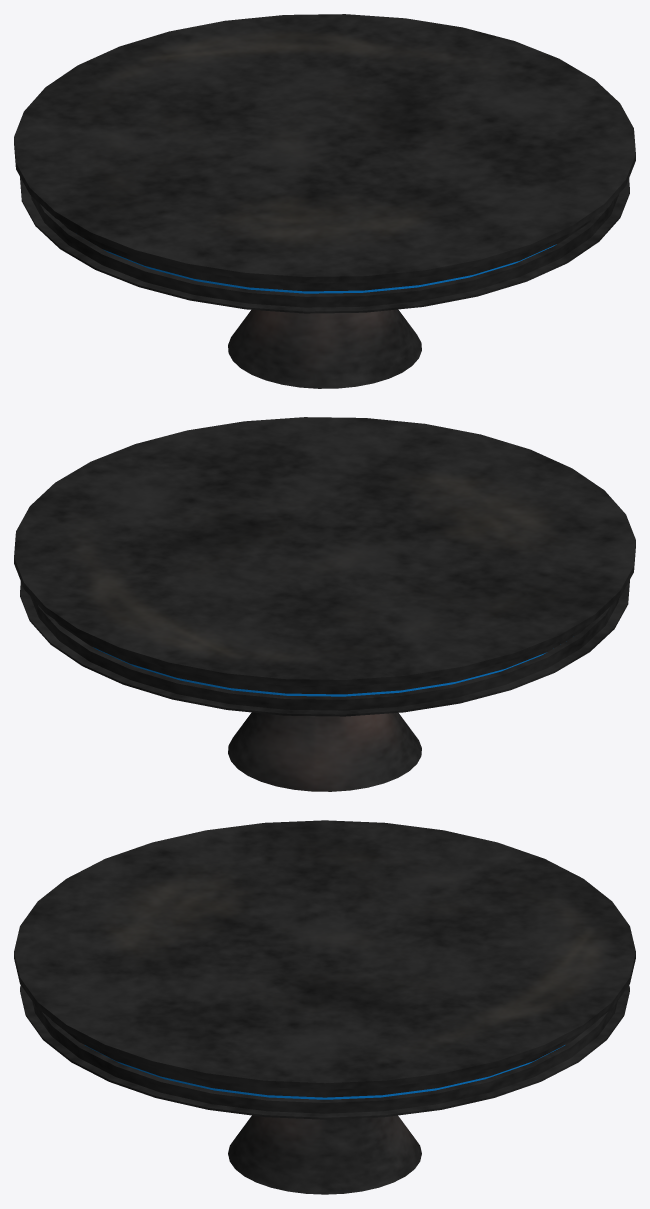
The model's file is tisch.glb.
3 renders of one model, top to bottom at view 1: azimuth 30°, elevation 25°; view 2: azimuth 150°, elevation 25°; view 3: azimuth 270°, elevation 25°, orthographic.
Visible parts, largest first — view 1: Tisch, LED; view 2: Tisch, LED; view 3: Tisch, LED.
Part boxes in pixels (<box>): Tisch: <box>14,14,635,388</box>; LED: <box>103,244,556,293</box>; Tisch: <box>14,417,635,791</box>; LED: <box>93,647,546,696</box>; Tisch: <box>14,820,635,1194</box>; LED: <box>85,1045,564,1099</box>.
Size of the model in its own units: 31.8 by 11.39 by 31.8.
Materials: 2 (2 with a texture image).
